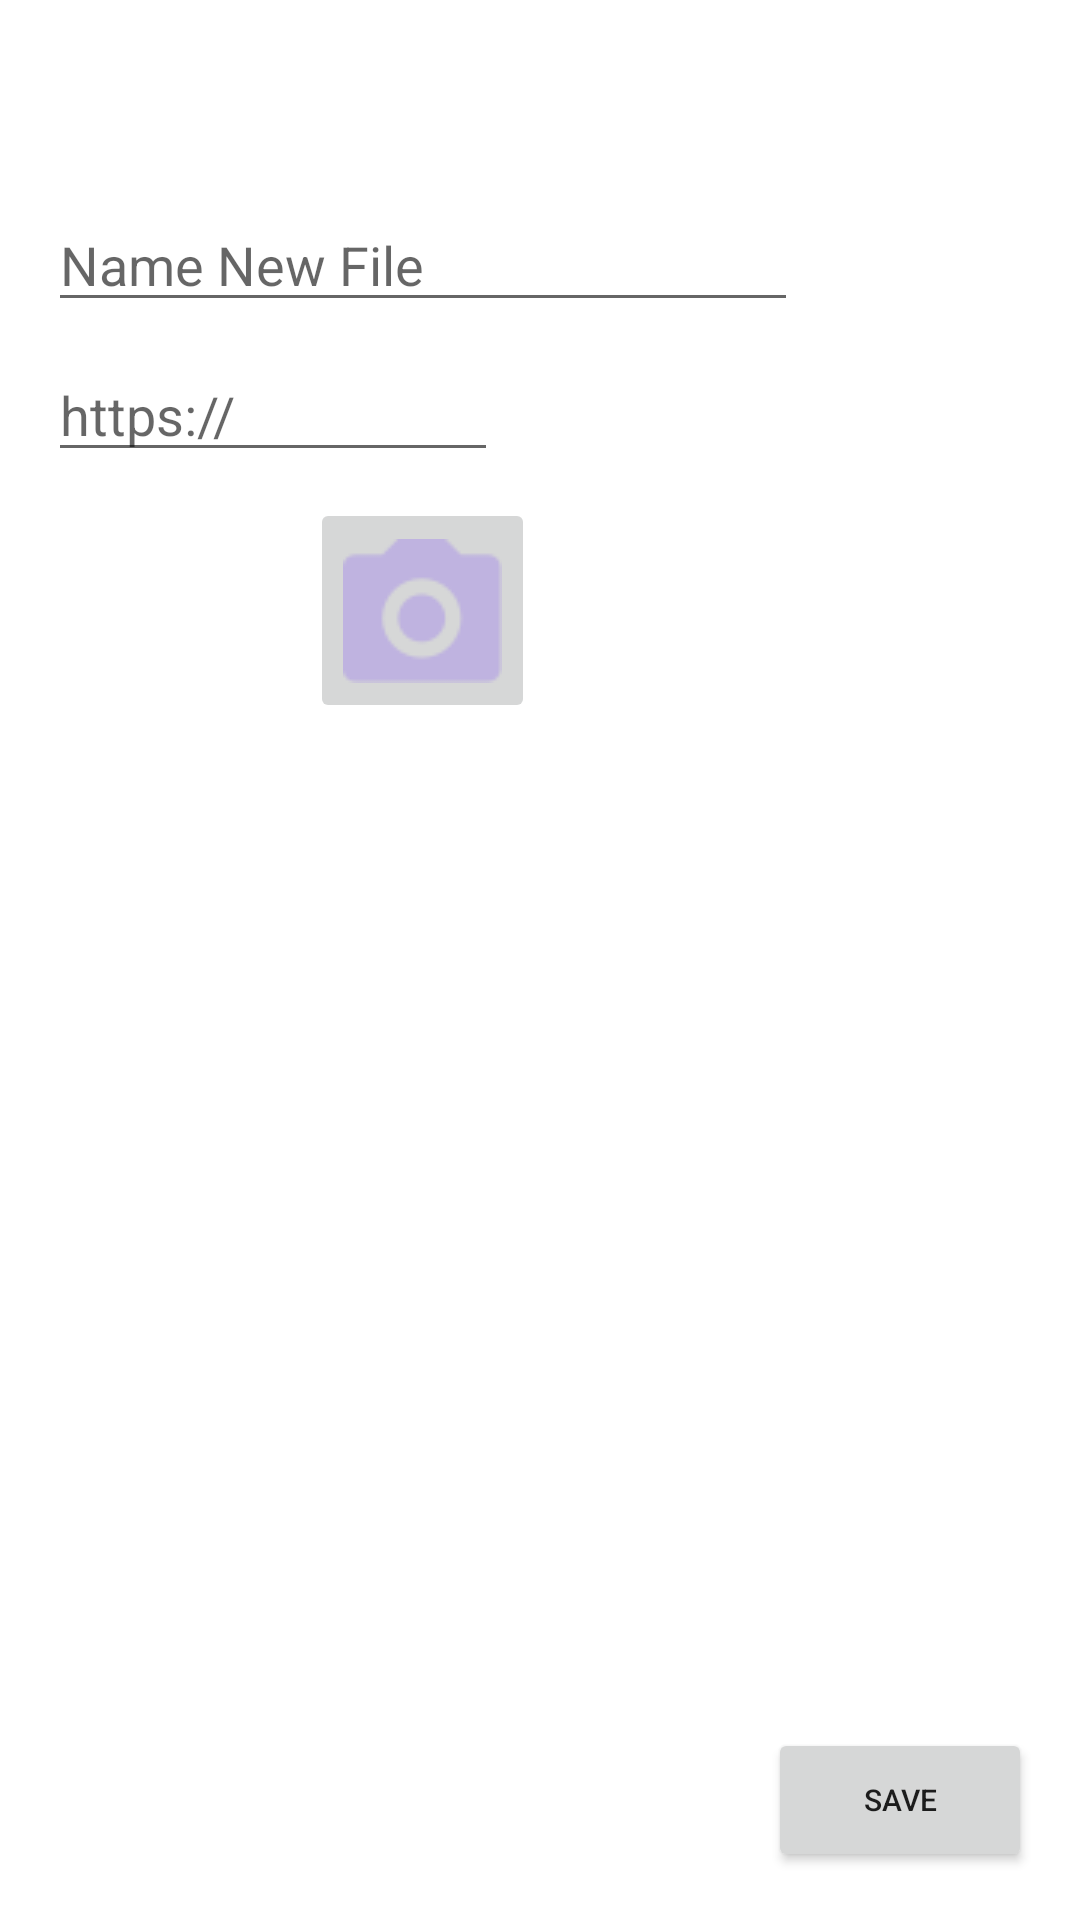

Where icons sit on this 1080w x 1920h app screen, as (x1, y1, x2, y2):
camera: (322, 516, 523, 705)
